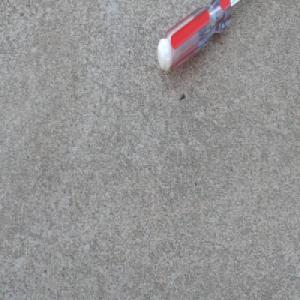Screwdriver: (155, 0, 250, 72)
